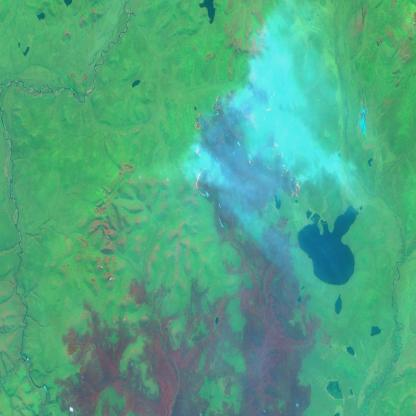fire: (186, 67, 307, 208)
